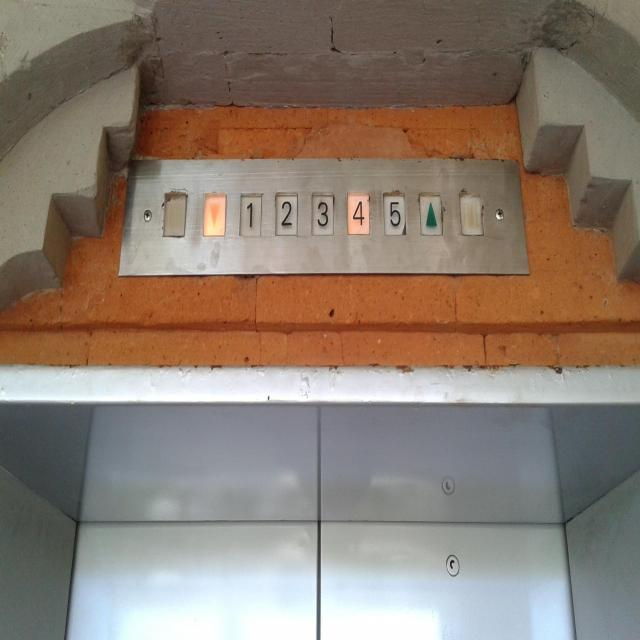1: (238, 192, 262, 238)
2: (274, 191, 298, 237)
3: (310, 191, 334, 237)
4: (346, 189, 370, 236)
5: (382, 191, 406, 237)
blur: (458, 192, 484, 235)
down: (202, 191, 228, 238)
empty: (162, 190, 188, 238)
up: (418, 192, 443, 235)
